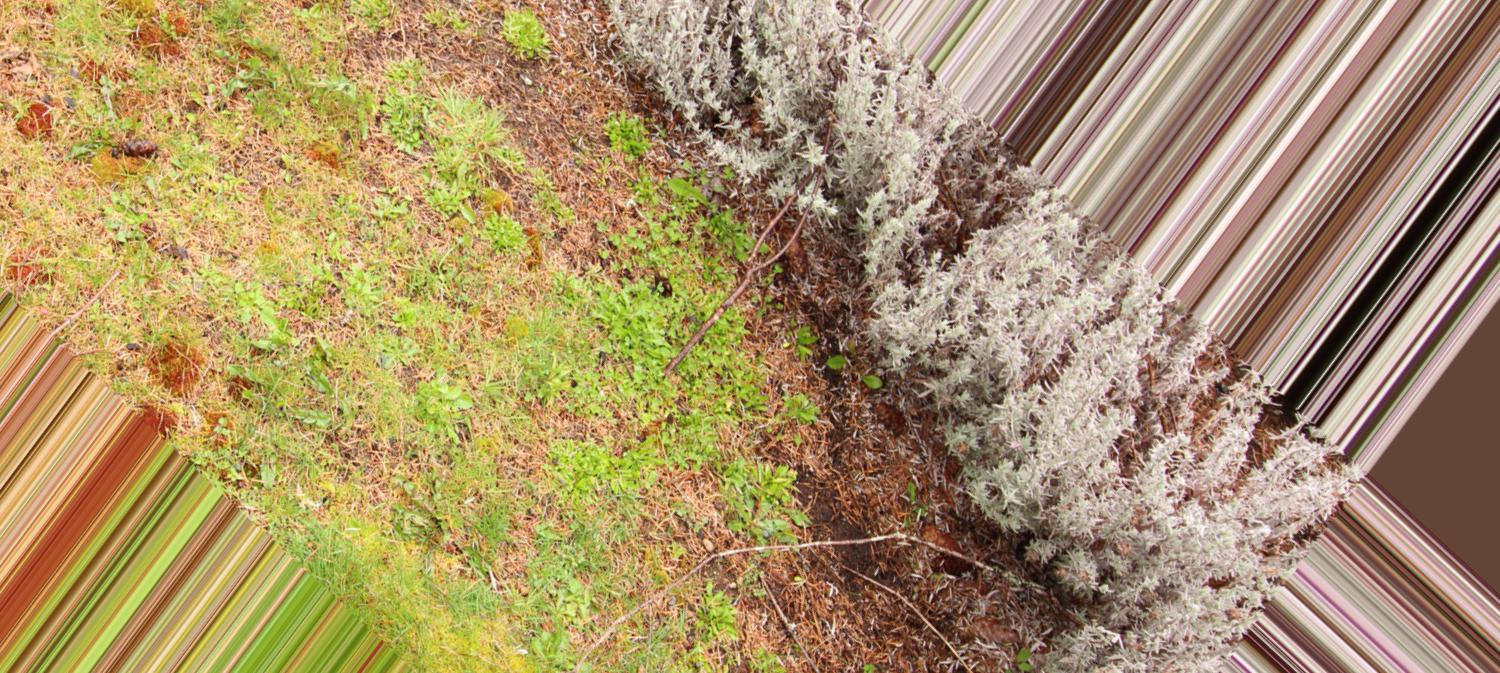patch: (71, 58, 749, 609)
